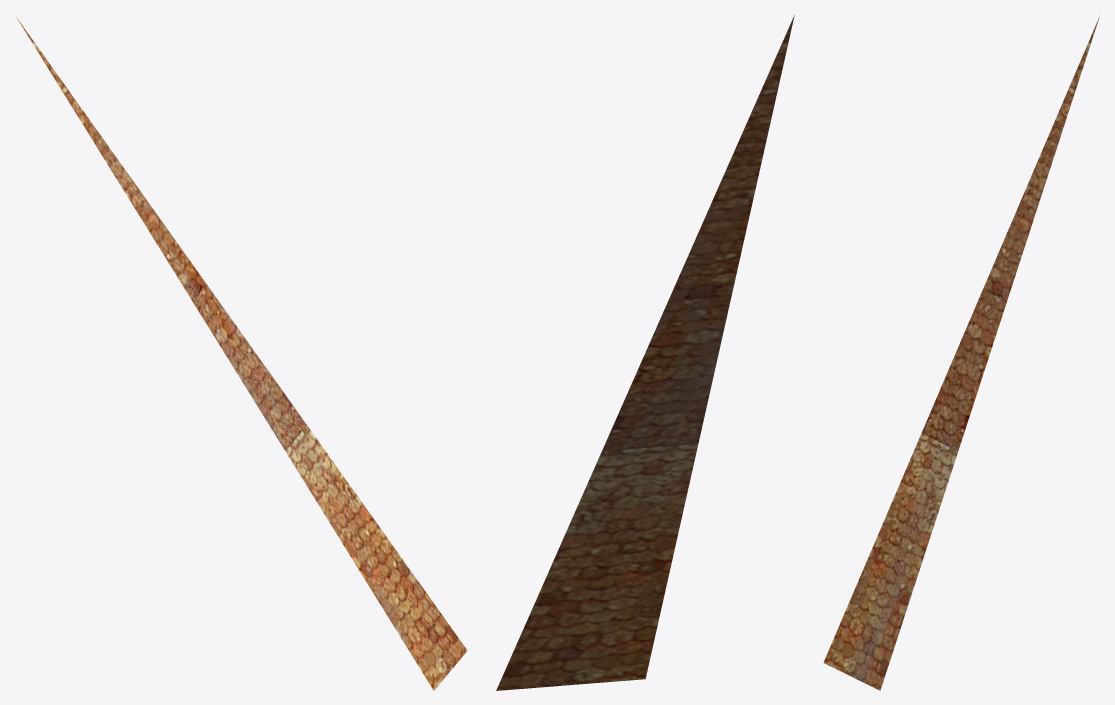
The model's file is 西庸城堡107.dae.
3 renders of one model, left to right at view 1: azimuth 30°, elevation 25°; view 2: azimuth 150°, elevation 25°; view 3: azimuth 270°, elevation 25°, orthographic. The views are drawn at different scales.
Visible parts, largest first — view 1: SketchUp; view 2: SketchUp; view 3: SketchUp.
Part boxes in pixels (x1,y1,x2,y2): SketchUp: (16,17,467,690); SketchUp: (496,15,794,690); SketchUp: (823,16,1099,690).
Bounding box in the file's own units: 151 × 128 × 276.
